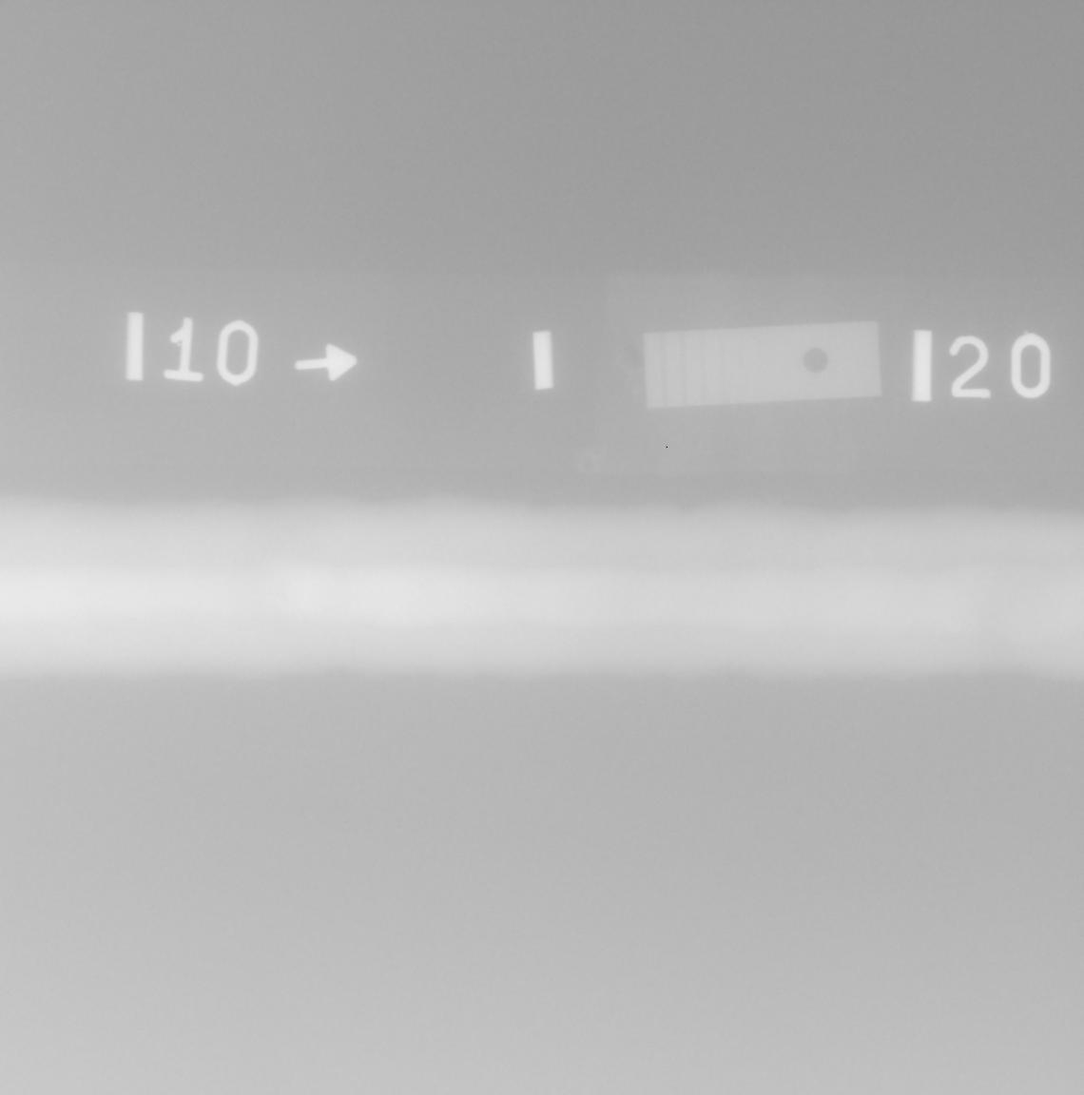Inclusion: (274, 592, 288, 602), (268, 592, 273, 595)
Reference Standard 1: (643, 321, 882, 409)
